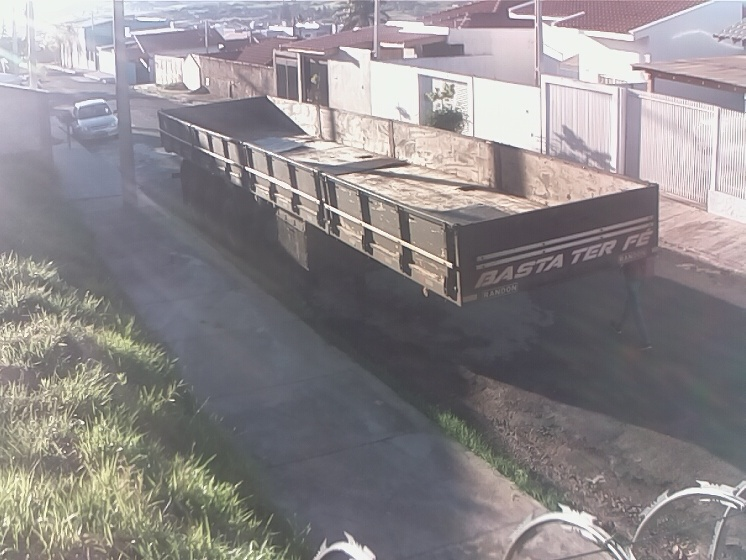person: (609, 255, 658, 354)
